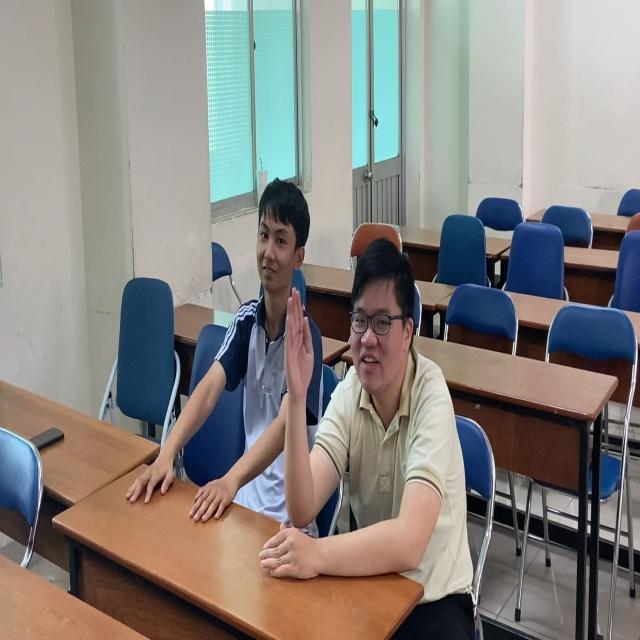raise_hand: (272, 238, 477, 614)
